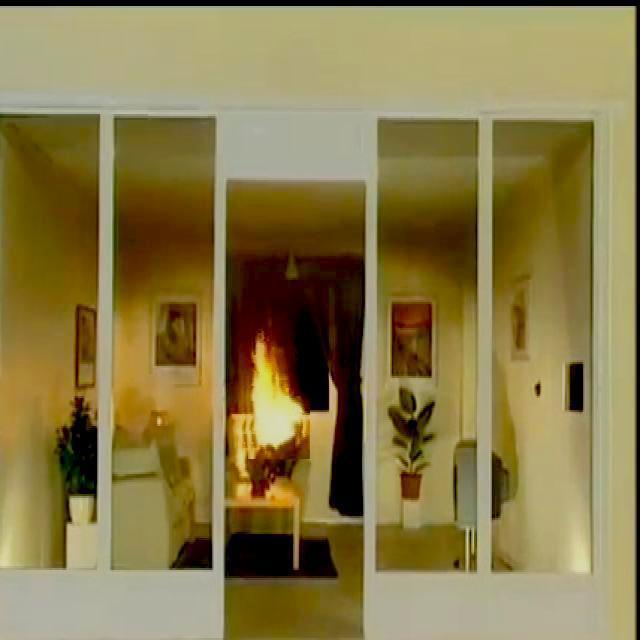smoke: (238, 317, 310, 458)
